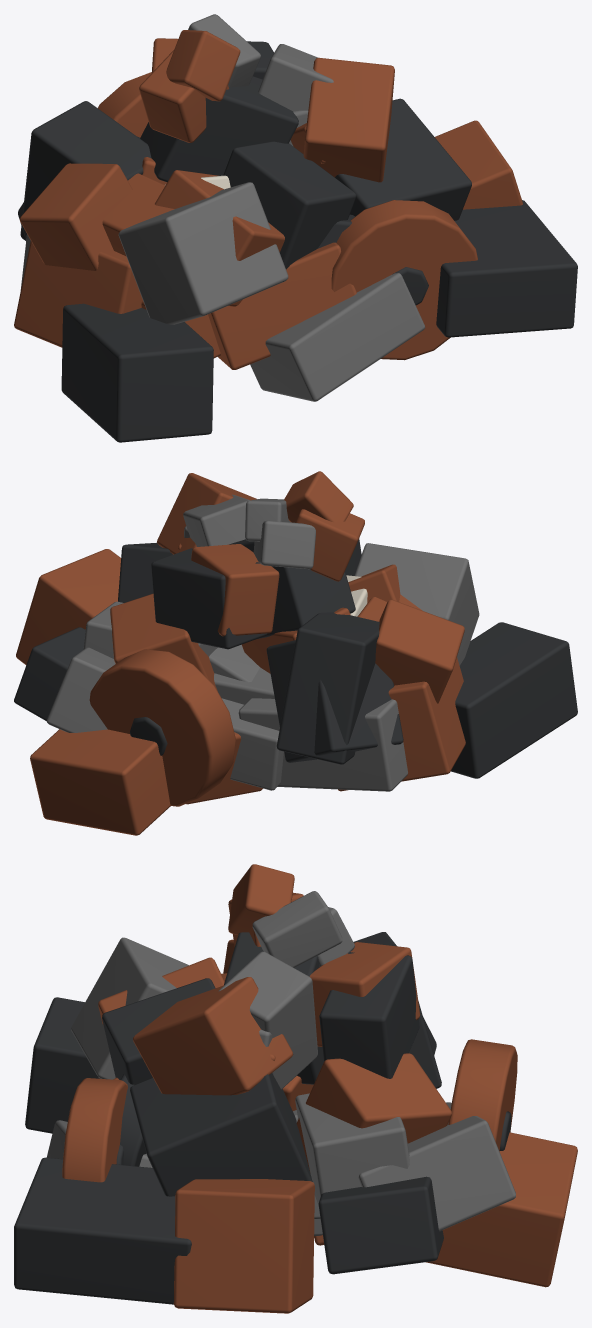
The model's file is scrap-pile-a.glb.
3 views of the same model, one above another, from view 1: azimuth 30°, elevation 25°; view 2: azimuth 150°, elevation 25°; view 3: azimuth 270°, elevation 25° (orthographic). The views are drawn at different scales.
Parts seen in each view (by area): view 1: scrap-pile-a; view 2: scrap-pile-a; view 3: scrap-pile-a.
Part boxes in pixels (bbox=[...]): scrap-pile-a: bbox=[14, 14, 577, 442]; scrap-pile-a: bbox=[14, 471, 577, 835]; scrap-pile-a: bbox=[14, 864, 577, 1313].
Size of the model in its own units: 4.11 by 2.57 by 3.77.
